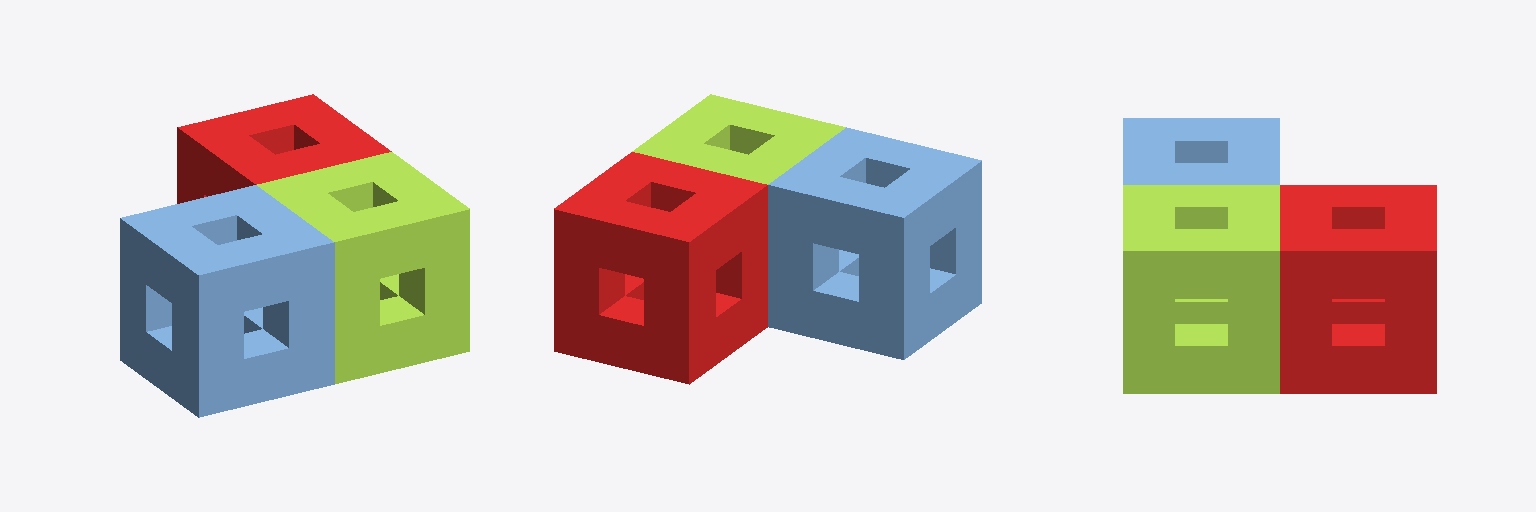
3 renders of one model, left to right at view 1: azimuth 30°, elevation 25°; view 2: azimuth 150°, elevation 25°; view 3: azimuth 270°, elevation 25°, orthographic.
Size of the model in its own units: 6 by 3 by 6.
1 materials, 1 textured.